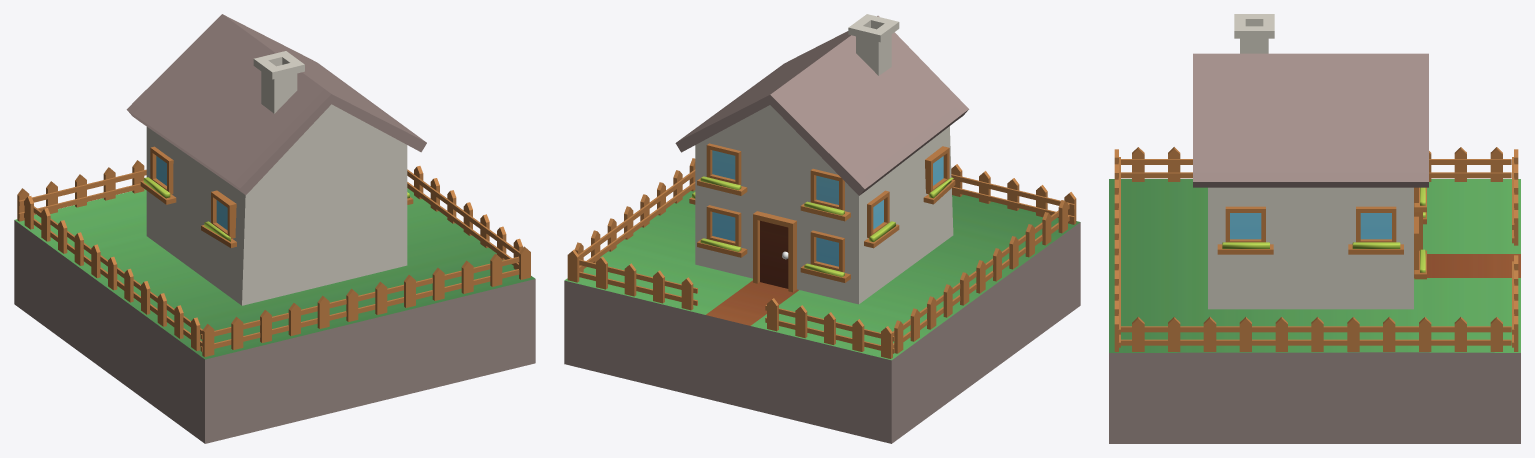
File: Background_House.fbx
The picture shows the model from 3 angles, left to right: view 1: azimuth 30°, elevation 25°; view 2: azimuth 150°, elevation 25°; view 3: azimuth 270°, elevation 25°; orthographic projection. The views are drawn at different scales.
Parts seen in each view (by area): view 1: Background_House; view 2: Background_House; view 3: Background_House.
Part boxes in pixels (x1,y1,x2,y2): Background_House: (14,14,535,443); Background_House: (564,14,1080,443); Background_House: (1109,14,1520,443).
Size of the model in its own units: 400 by 345 by 400.
